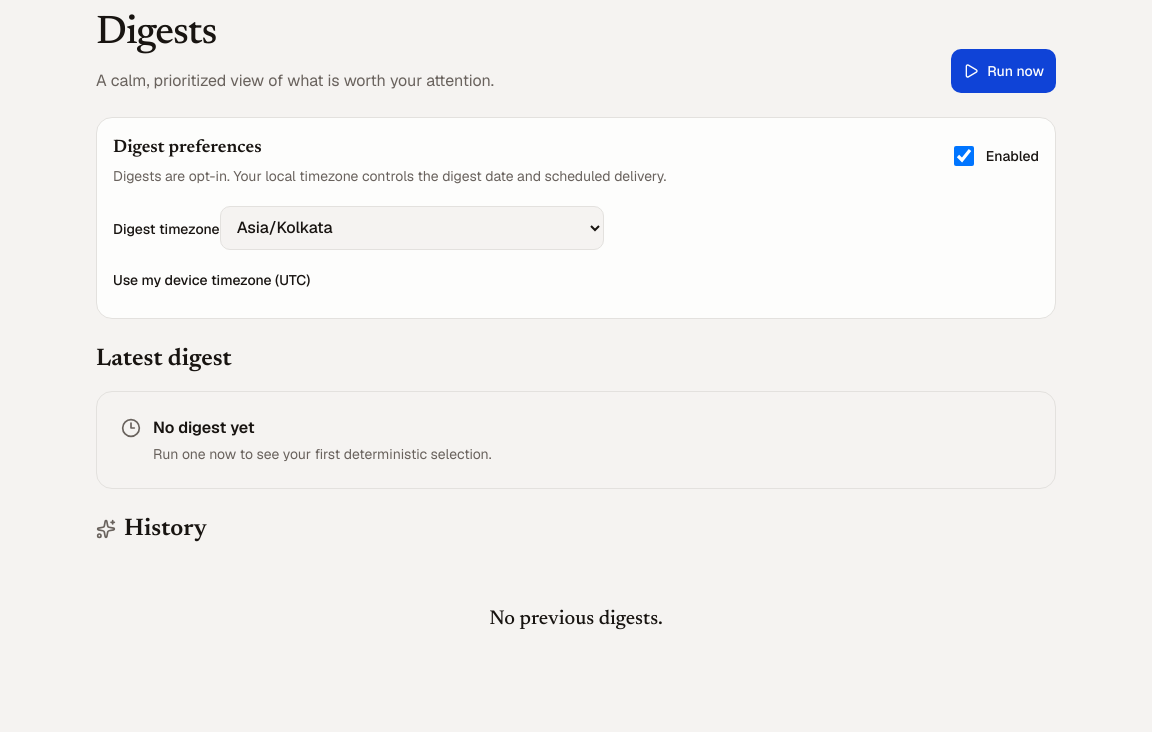
Test: DigestExperience › shows run errors without losing the current page
Expected: the heading "No digest yet" is shown, [153,417,255,438]
Click the button "Run now": (1004, 71) [951,49,1056,93]
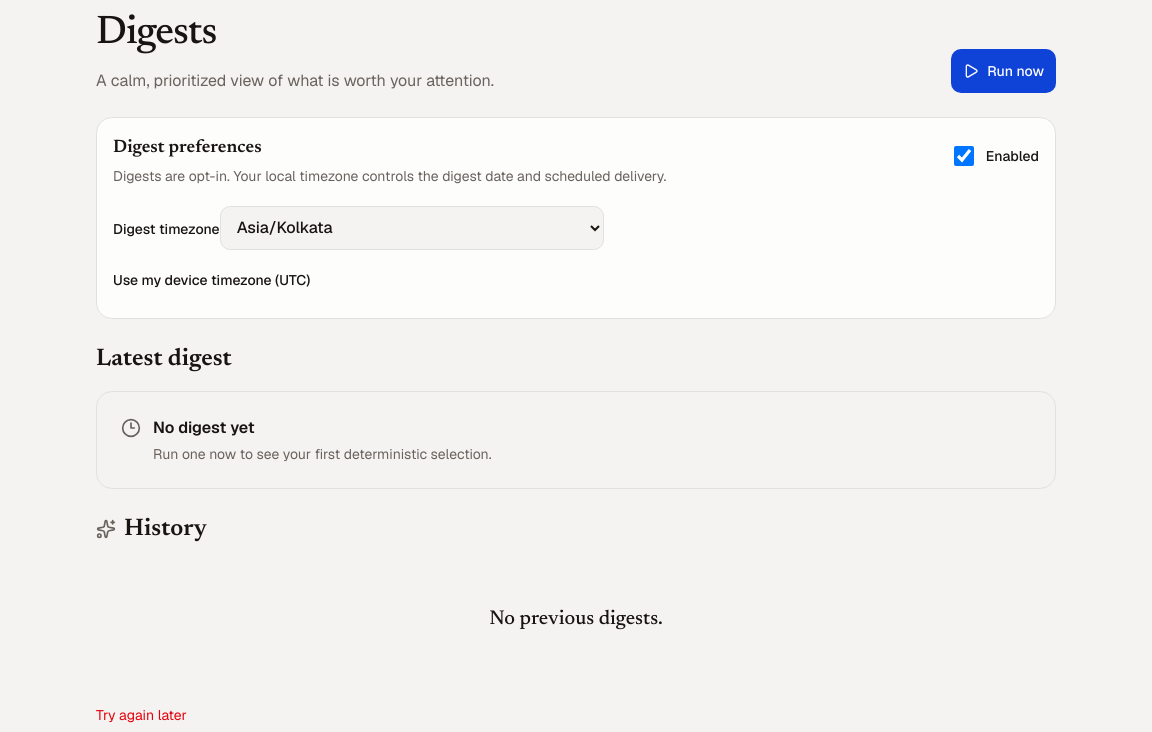
Expected: the heading "No digest yet" is shown, [153,417,255,438]
Expected: the message "Try again later" is shown, [96,706,187,724]
